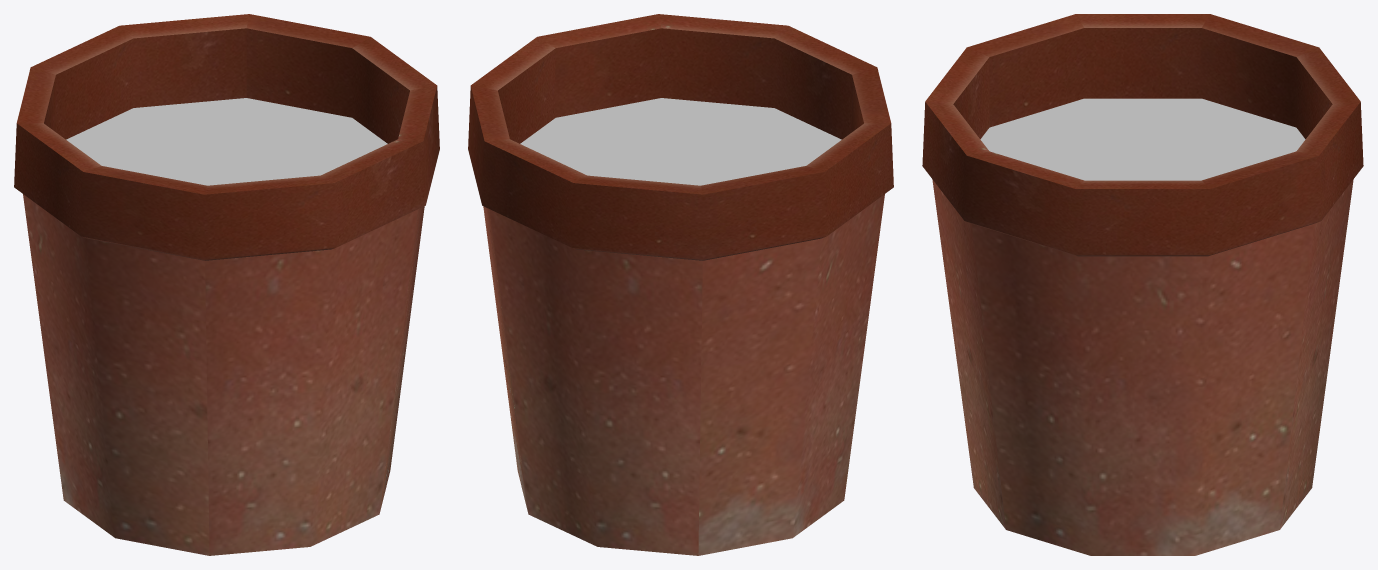
Rendered from flowerpot1.fbx.
3 views of the same model, side by side, from view 1: azimuth 30°, elevation 25°; view 2: azimuth 150°, elevation 25°; view 3: azimuth 270°, elevation 25° (orthographic).
Parts seen in each view (by area): view 1: flowerpot1; view 2: flowerpot1; view 3: flowerpot1.
Boxes of the visible parts, x1,y1,x2,y2 form: flowerpot1: (14,14,439,555); flowerpot1: (468,14,893,555); flowerpot1: (922,14,1363,555).
Size of the model in its own units: 0.2186 by 0.2222 by 0.2298.
